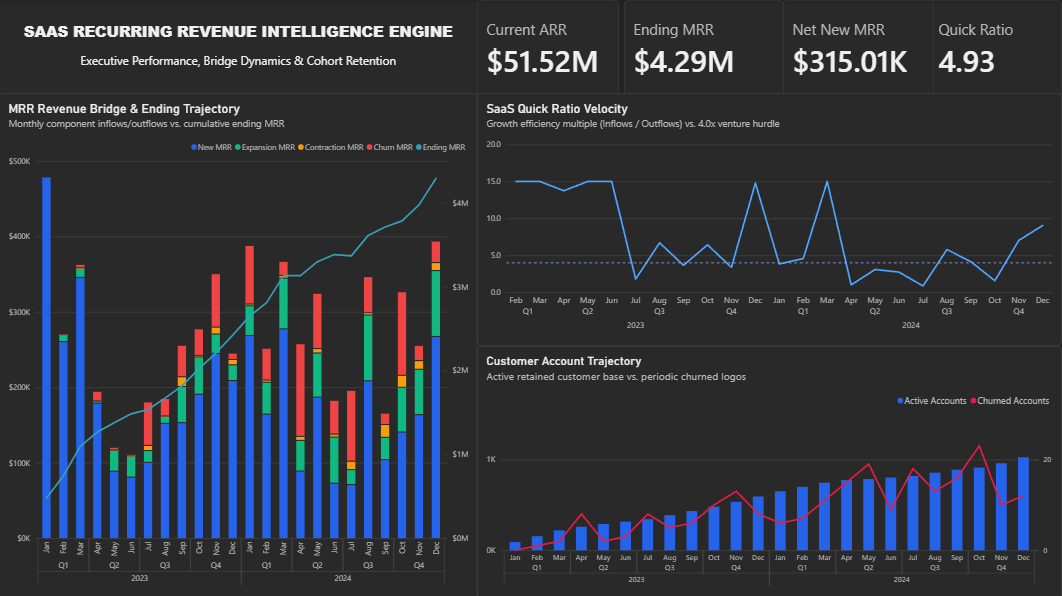

This screenshot's page, from the dashboard's own definition file:
{"tool":"powerbi","page":{"name":"Executive Overview","canvas":[1920,1080],"ordinal":0},"visuals":[{"type":"textbox","box":[0,0,864,168],"z":0},{"type":"cardVisual","fields":{"Data":["_Measures.Current ARR"]},"box":[864,0,256,176],"z":1000},{"type":"cardVisual","fields":{"Data":["_Measures.Ending MRR"]},"box":[1128,0,288,176],"z":2000},{"type":"cardVisual","fields":{"Data":["_Measures.Quick Ratio"]},"box":[1680,0,240,176],"z":3000},{"type":"cardVisual","fields":{"Data":["_Measures.Net New MRR"]},"box":[1416,0,272,176],"z":4000},{"type":"lineStackedColumnComboChart","title":"MRR Revenue Bridge & Ending Trajectory","fields":{"Category":["Dim_Date.Year Hierarchy.Year","Dim_Date.Year Hierarchy.Quarter","Dim_Date.Year Hierarchy.Month Name"],"Y":["Sum(vw_mrr_revenue_bridge.new_mrr)","Sum(vw_mrr_revenue_bridge.expansion_mrr)","Sum(vw_mrr_revenue_bridge.contraction_mrr)","Sum(vw_mrr_revenue_bridge.churn_mrr)"],"Y2":["Sum(vw_mrr_revenue_bridge.ending_mrr)"]},"box":[0,168,864,912],"z":5000},{"type":"lineChart","title":"SaaS Quick Ratio Velocity","fields":{"Category":["Dim_Date.Year Hierarchy.Year","Dim_Date.Year Hierarchy.Quarter","Dim_Date.Year Hierarchy.Month Name"],"Y":["_Measures.Quick Ratio"]},"box":[864,168,1056,456],"z":6000},{"type":"lineClusteredColumnComboChart","title":"Customer Account Trajectory","fields":{"Category":["Dim_Date.Year Hierarchy.Year","Dim_Date.Year Hierarchy.Quarter","Dim_Date.Year Hierarchy.Month Name"],"Y":["Sum(vw_mrr_revenue_bridge.active_accounts)"],"Y2":["Sum(vw_mrr_revenue_bridge.churned_accounts)"]},"box":[864,624,1056,456],"z":7000}]}

Visuals, with their boxes in screenshot pixels (x1, y1, x2, y2), scaled from the page's 1920x1080 canvas onto the 1062x596 screenshot:
textbox: x1=0 y1=0 x2=478 y2=93
cardVisual - _Measures.Current ARR: x1=478 y1=0 x2=620 y2=97
cardVisual - _Measures.Ending MRR: x1=624 y1=0 x2=783 y2=97
cardVisual - _Measures.Quick Ratio: x1=929 y1=0 x2=1061 y2=97
cardVisual - _Measures.Net New MRR: x1=783 y1=0 x2=934 y2=97
"MRR Revenue Bridge & Ending Trajectory" lineStackedColumnComboChart: x1=0 y1=93 x2=478 y2=595
"SaaS Quick Ratio Velocity" lineChart: x1=478 y1=93 x2=1061 y2=344
"Customer Account Trajectory" lineClusteredColumnComboChart: x1=478 y1=344 x2=1061 y2=595
